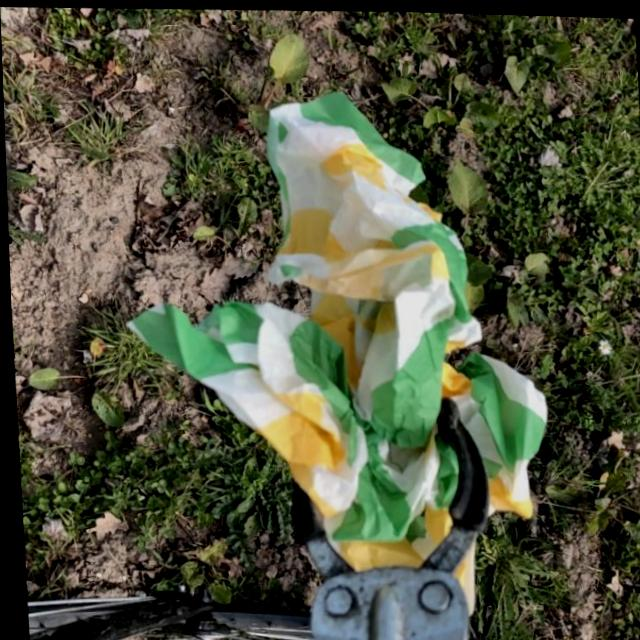Paper: (101, 69, 560, 622)
